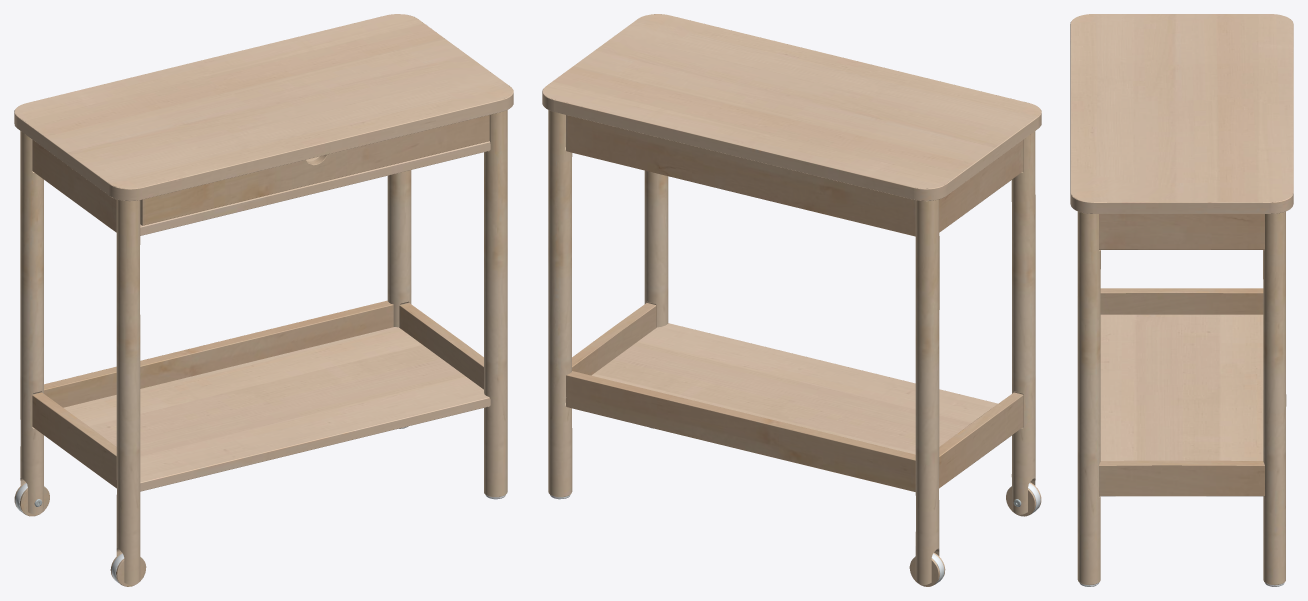
Rendered from ronninge_wozek_50507488.glb.
3 views of the same model, side by side, from view 1: azimuth 30°, elevation 25°; view 2: azimuth 150°, elevation 25°; view 3: azimuth 270°, elevation 25° (orthographic). The views are drawn at different scales.
Parts seen in each view (by area): view 1: ronninge_wozek_50507488; view 2: ronninge_wozek_50507488; view 3: ronninge_wozek_50507488.
Boxes of the visible parts, x1=… form: ronninge_wozek_50507488: x1=14, y1=14, x2=513, y2=586; ronninge_wozek_50507488: x1=542, y1=14, x2=1041, y2=586; ronninge_wozek_50507488: x1=1070, y1=14, x2=1293, y2=586.
Size of the model in its own units: 0.78 by 0.7501 by 0.39.
Materials: 1 (1 with a texture image).
